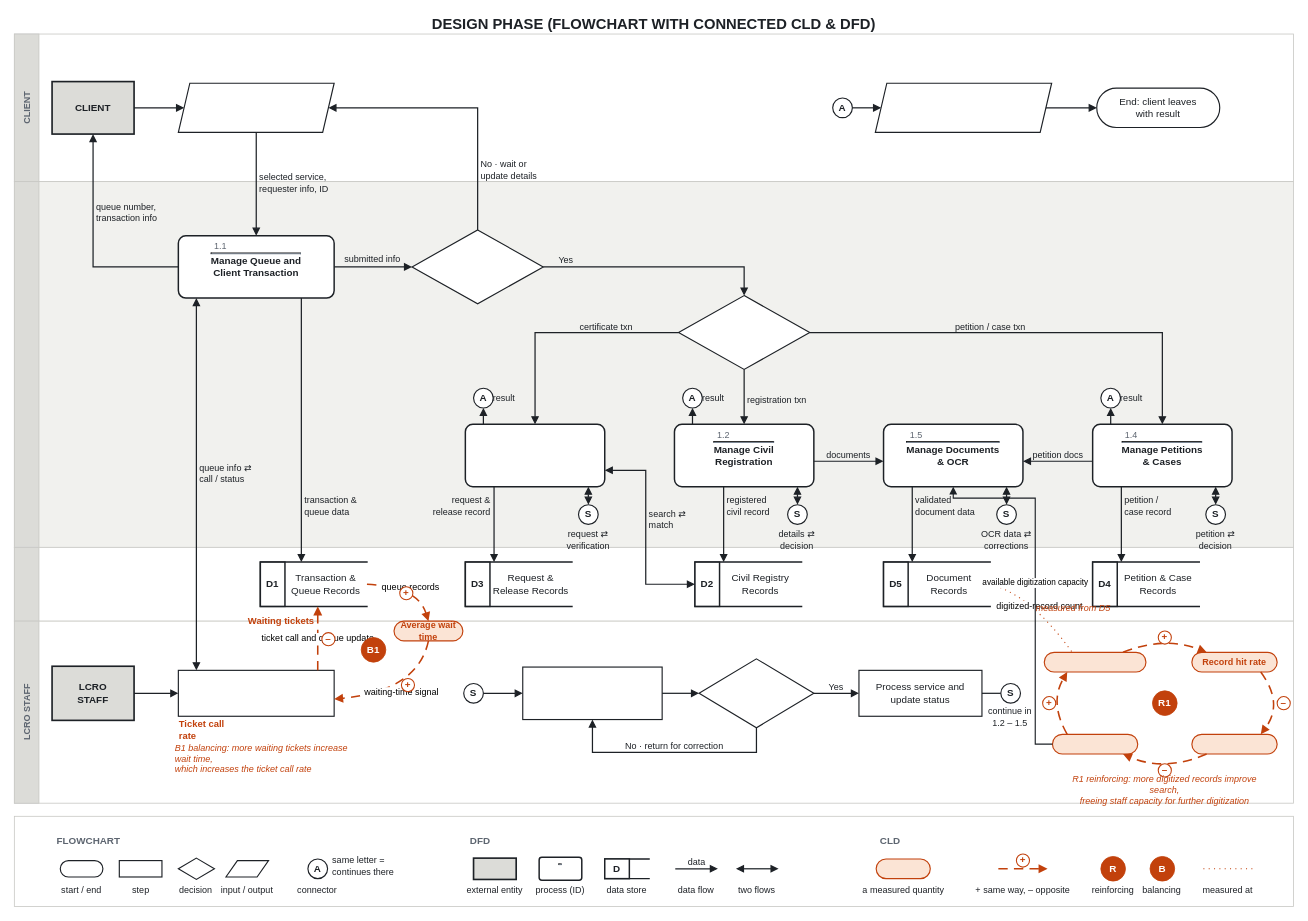
The diagram is 1308 pixels wide and 921 high, and some of its shapes have lost their labels. The centre of each missing label's shape, as x and y in pixels:
1.3 Manage Certificate Request & Release: the point at 534,455
Accept and call next ticket (assigned service window): the point at 255,692
Check requirements, ID, documents and OCR fields: the point at 592,693
Choose service(s) and enter client details: the point at 255,107
Complete and valid?: the point at 756,693
CROMS MAIN FLOWCHART: the point at 26,364
DFD DATA STORES: the point at 26,584
Digitization capacity: the point at 1094,743
Digitized records: the point at 1094,661
Receive result, status or document: the point at 963,107
Record handling time: the point at 1234,743
Requested service?: the point at 744,332
Ticket ready for service?: the point at 477,266
variable: the point at 902,868
